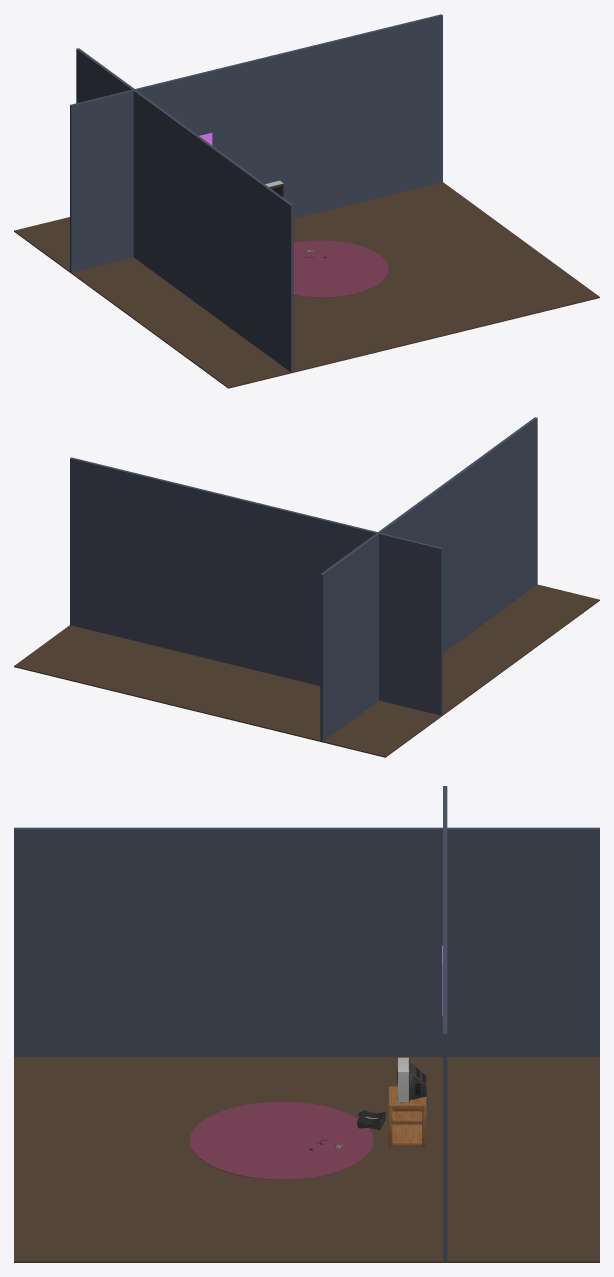
File: portada.glb
3 renders of one model, top to bottom at view 1: azimuth 30°, elevation 25°; view 2: azimuth 150°, elevation 25°; view 3: azimuth 270°, elevation 25°, orthographic. The views are drawn at different scales.
Parts seen in each view (by area): view 1: Muro_Fondo, Piso, Muro_Izq, Alfombra; view 2: Muro_Fondo, Muro_Izq, Piso; view 3: Muro_Izq, Piso, Alfombra, Muro_Fondo, Mueble_TV, Tele.
Boxes of the visible parts, x1,y1,x2,y2 form: Muro_Fondo: (70, 14, 442, 272); Piso: (14, 182, 599, 388); Muro_Izq: (76, 48, 293, 372); Alfombra: (293, 240, 388, 297); Muro_Fondo: (70, 457, 442, 715); Muro_Izq: (320, 417, 537, 741); Piso: (14, 584, 599, 757); Muro_Izq: (14, 827, 599, 1056); Piso: (14, 1057, 599, 1262); Alfombra: (189, 1101, 373, 1179); Muro_Fondo: (443, 786, 447, 1261); Mueble_TV: (388, 1086, 426, 1147); Tele: (397, 1057, 426, 1102).
Bounding box in the file's own units: 7 × 3.02 × 7.
9 materials, 4 textured.
